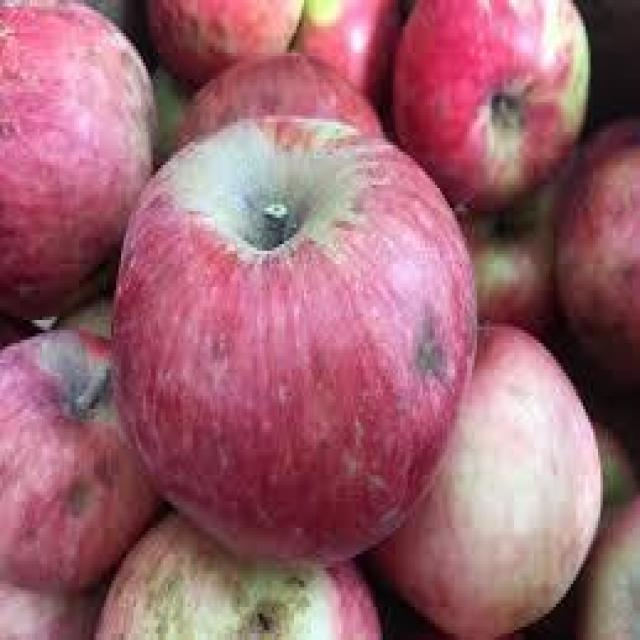maca: (0, 0, 638, 637), (109, 112, 477, 564)
